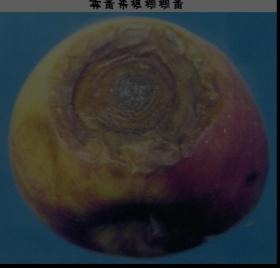rotten apple: (8, 13, 271, 256)
